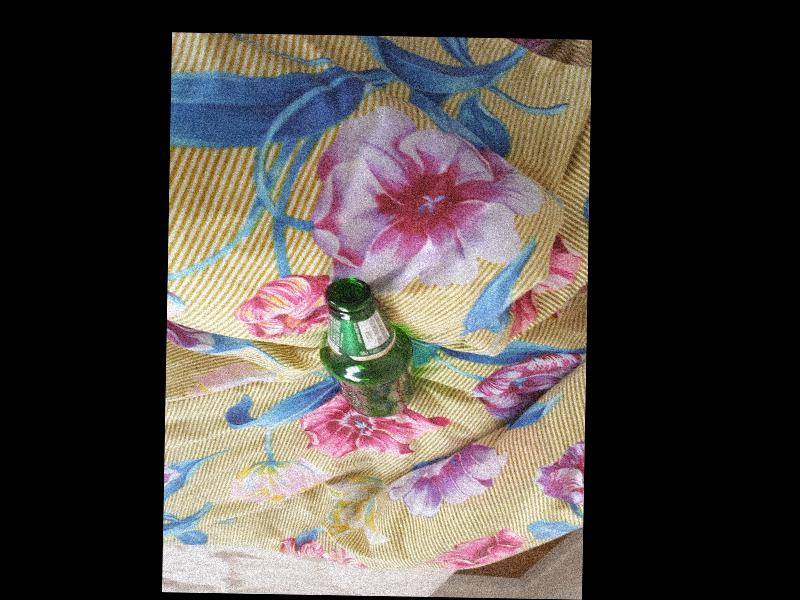Beer: (319, 277, 411, 417)
